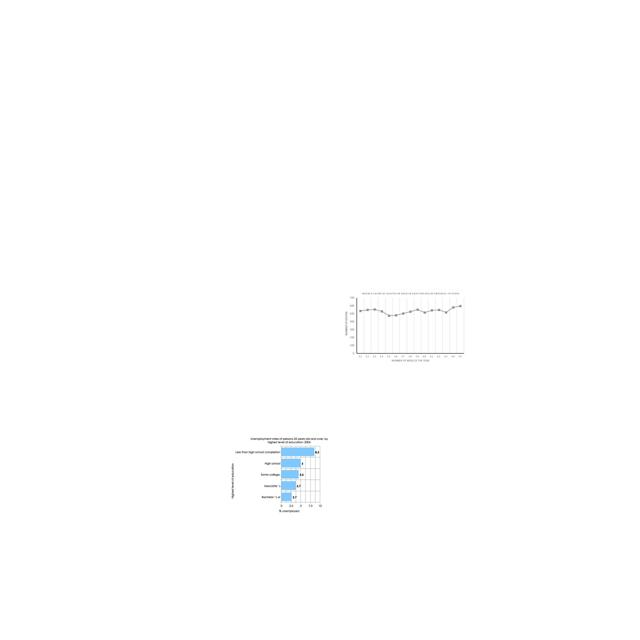Graph: (342, 289, 467, 366), (230, 437, 329, 513)
